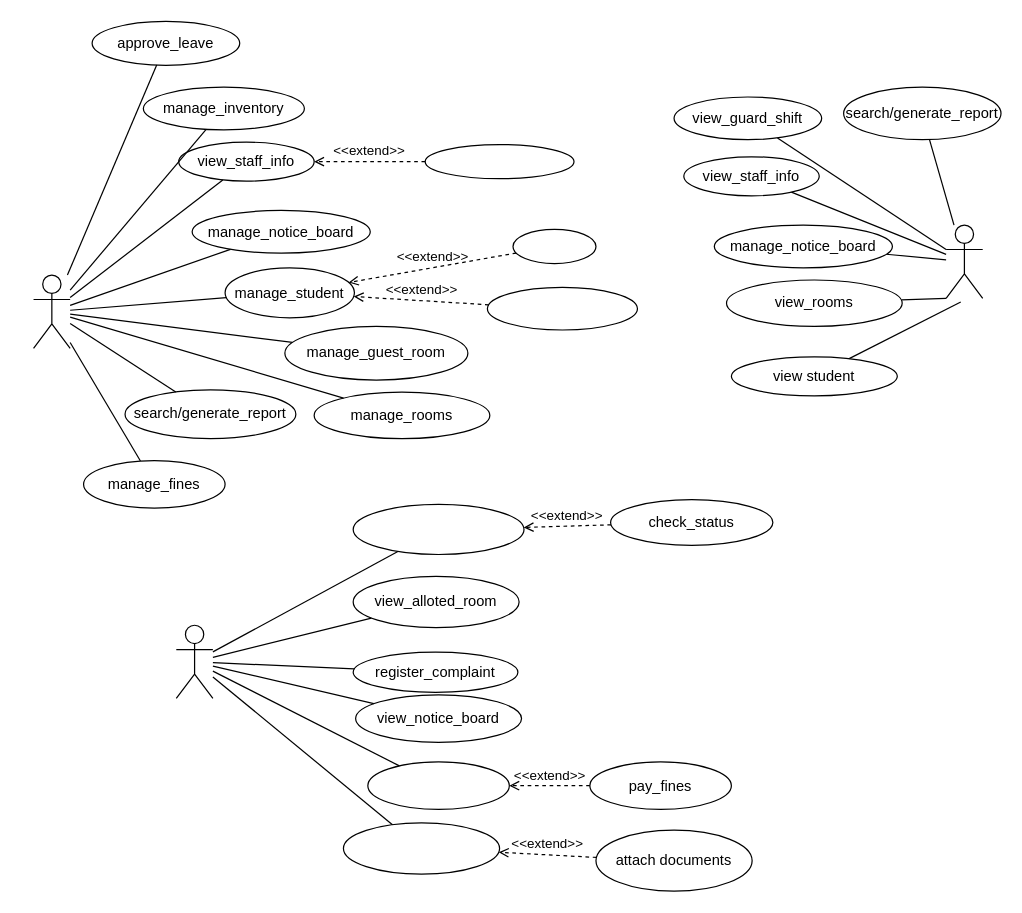
Some shapes in this 1022 by 913 pixel diagram are drawn without their labels. Each missing label, with the centre of its shape:
"apply_for_leave" belongs at (x=421, y=848).
"caretaker" belongs at (x=51, y=311).
"manage_attendance" belongs at (x=499, y=161).
"request_guest_room" belongs at (x=438, y=528).
"student" belongs at (x=194, y=661).
"update_attendance" belongs at (x=561, y=308).
"view_fines" belongs at (x=438, y=785).
"view_info" belongs at (x=554, y=246).
"warden" belongs at (x=964, y=261).
